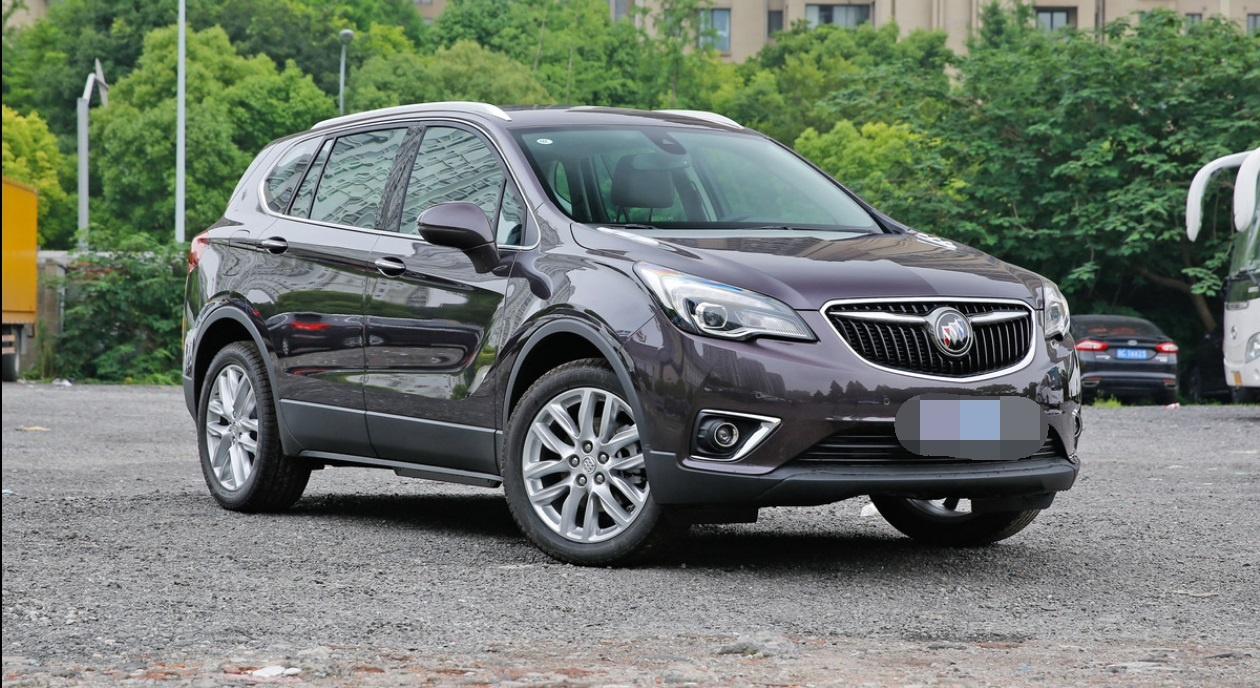SUV: (184, 81, 1089, 573)
